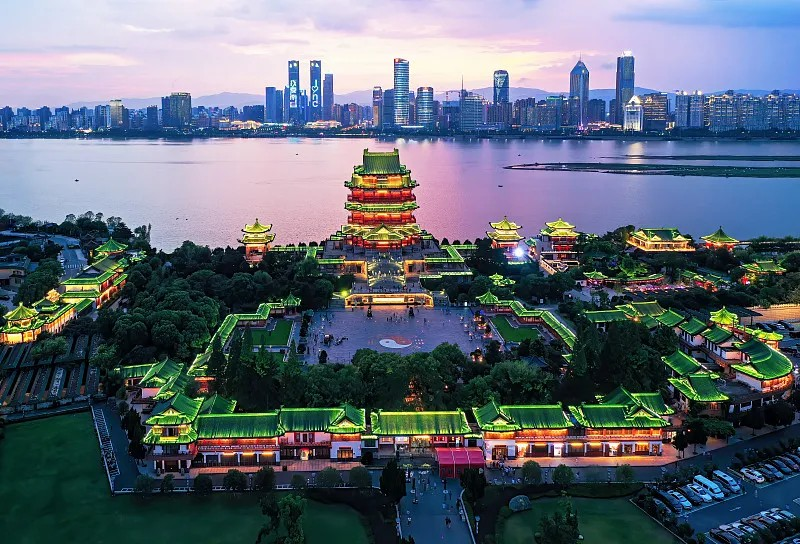Teng: (330, 147, 433, 250)
